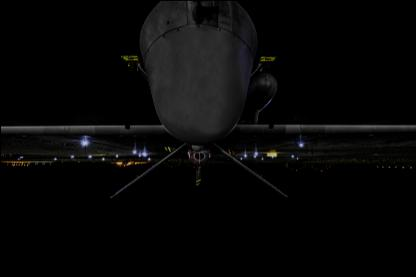MQ9: (1, 0, 415, 199)
